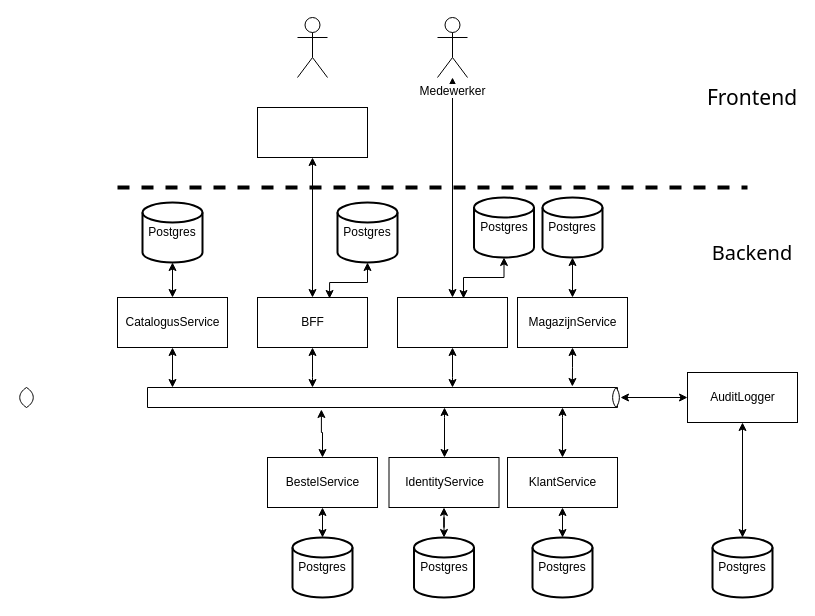
The diagram is 815 pixels wide and 616 high, and some of its shapes have lost their labels. The shapes that lost their labels are listed below. From the top down, each one's centre as x and y in pixels, then its label:
At (x=312, y=47): "Klant".
At (x=312, y=132): "<<Angular>> Webshop".
At (x=452, y=322): "<<MVC>> BackOffice FE".
